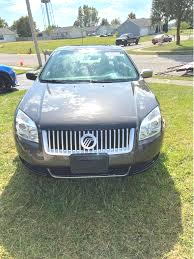Mercury: (76, 130, 102, 153)
